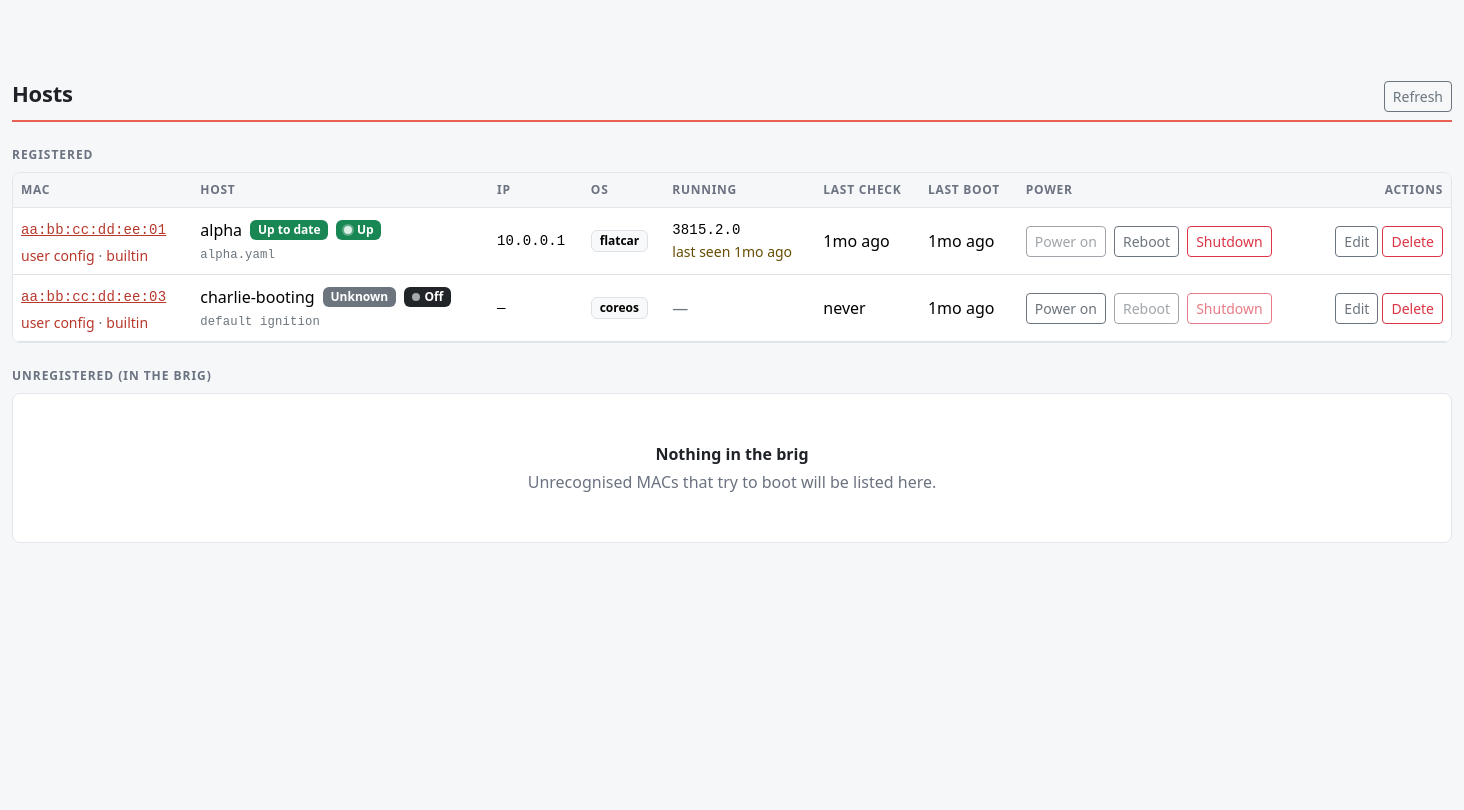
Test: HostsView › offers force only for the last up worker on shutdown
Click the button "Shutdown" in the row of "aa:bb:cc:dd:ee:01" at (1229, 241), box [1187,226,1272,256]
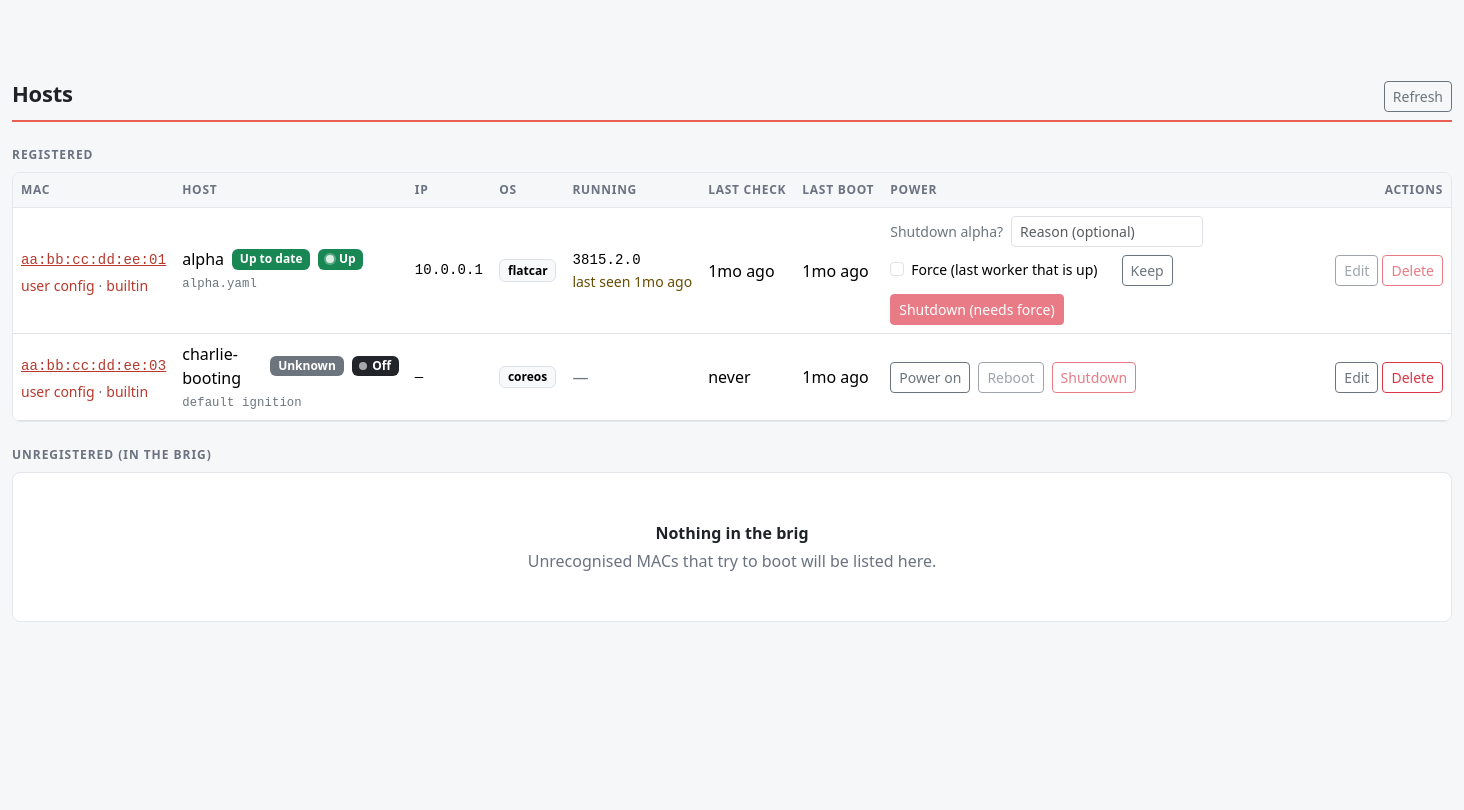
Expected: the label with test id "power-force" shows "last worker", [911,260,1098,278]
